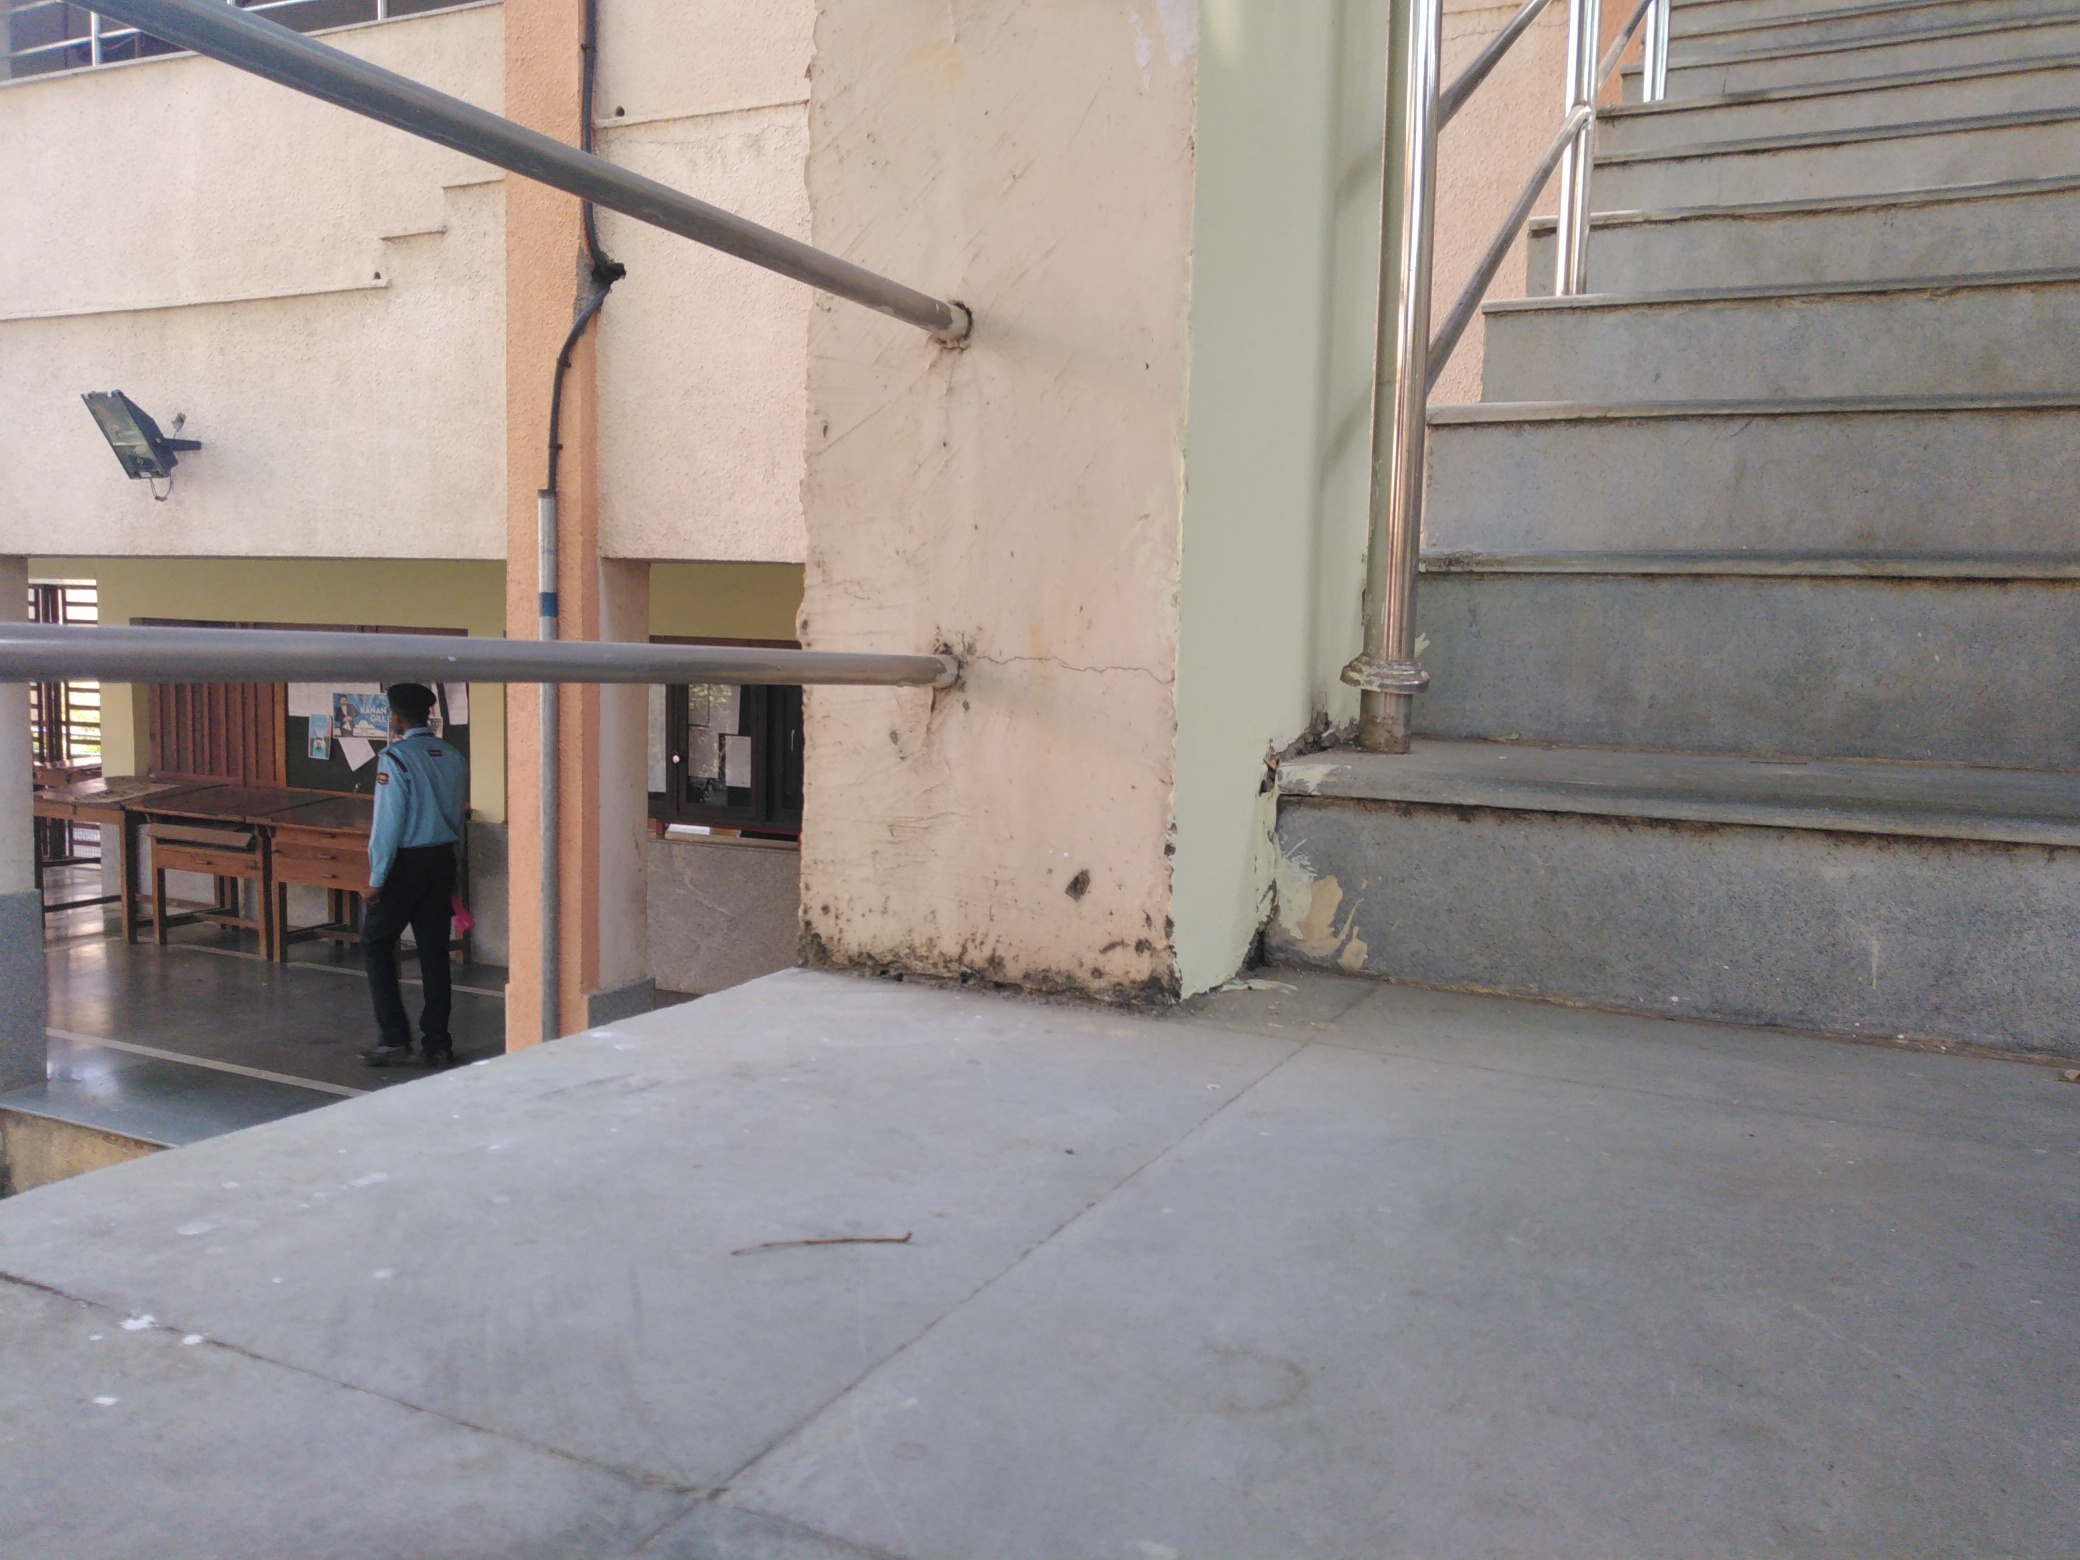stairs_up: (1350, 38, 2080, 1068)
